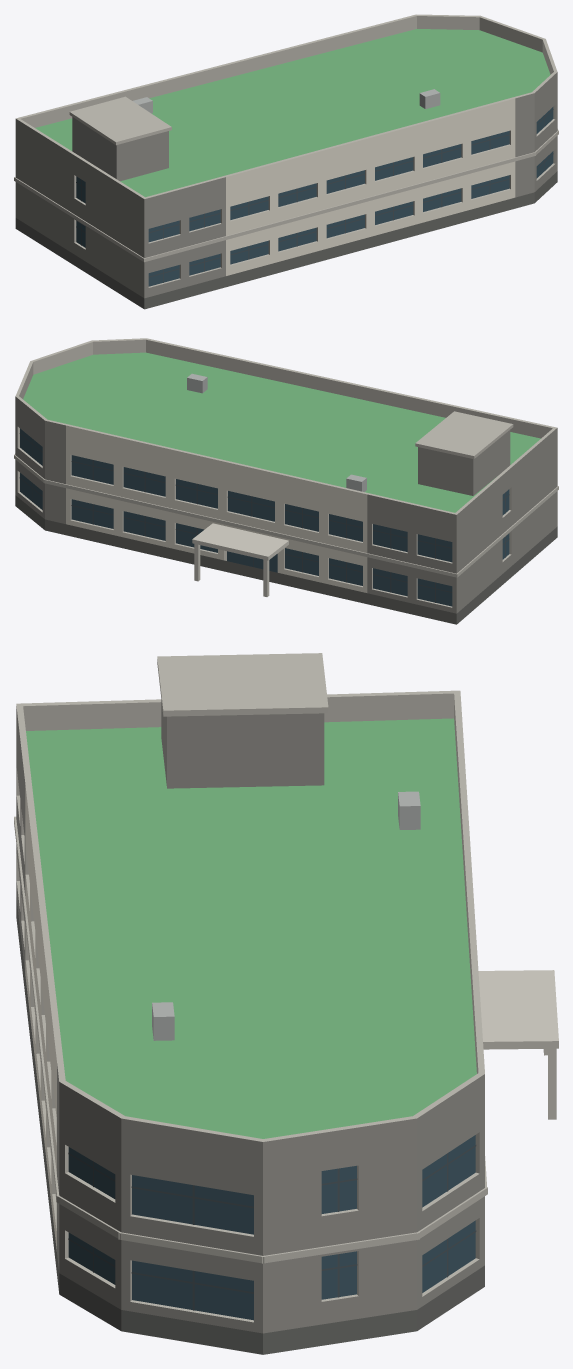
3 views of the same model, one above another, from view 1: azimuth 30°, elevation 25°; view 2: azimuth 150°, elevation 25°; view 3: azimuth 270°, elevation 25° (orthographic). The views are drawn at different scales.
Visible parts, largest first — view 1: wing5__roof, wing5__brick, wing5__wall-plaster, wing5__trim-concrete, wing5__glass, wing5__base-stone, wing5__frame, wing5__equipment; view 2: wing5__roof, wing5__brick, wing5__wall-plaster, wing5__trim-concrete, wing5__glass, wing5__base-stone, wing5__canopy-concrete, wing5__frame, wing5__equipment; view 3: wing5__roof, wing5__brick, wing5__trim-concrete, wing5__glass, wing5__base-stone, wing5__canopy-concrete, wing5__wall-plaster, wing5__frame, wing5__equipment.
Part boxes in pixels (bbox=[...]): wing5__roof: bbox=[35, 29, 550, 197]; wing5__brick: bbox=[15, 72, 557, 298]; wing5__wall-plaster: bbox=[226, 98, 515, 275]; wing5__trim-concrete: bbox=[14, 14, 558, 287]; wing5__glass: bbox=[76, 107, 553, 286]; wing5__base-stone: bbox=[15, 171, 557, 309]; wing5__frame: bbox=[76, 109, 553, 282]; wing5__equipment: bbox=[133, 89, 440, 113]; wing5__roof: bbox=[23, 352, 540, 512]; wing5__brick: bbox=[15, 396, 557, 613]; wing5__wall-plaster: bbox=[66, 425, 367, 592]; wing5__trim-concrete: bbox=[14, 338, 558, 607]; wing5__glass: bbox=[20, 428, 509, 606]; wing5__base-stone: bbox=[15, 495, 557, 624]; wing5__canopy-concrete: bbox=[192, 523, 288, 596]; wing5__frame: bbox=[19, 433, 509, 602]; wing5__equipment: bbox=[187, 373, 366, 491]; wing5__roof: bbox=[26, 718, 476, 1138]; wing5__brick: bbox=[16, 700, 484, 1333]; wing5__trim-concrete: bbox=[14, 653, 487, 1322]; wing5__glass: bbox=[68, 1135, 475, 1320]; wing5__base-stone: bbox=[16, 897, 484, 1354]; wing5__canopy-concrete: bbox=[478, 970, 558, 1119]; wing5__wall-plaster: bbox=[25, 785, 56, 1251]; wing5__frame: bbox=[68, 1145, 476, 1310]; wing5__equipment: bbox=[152, 791, 420, 1040].
Size of the model in its own units: 40.91 by 11.25 by 20.77.
